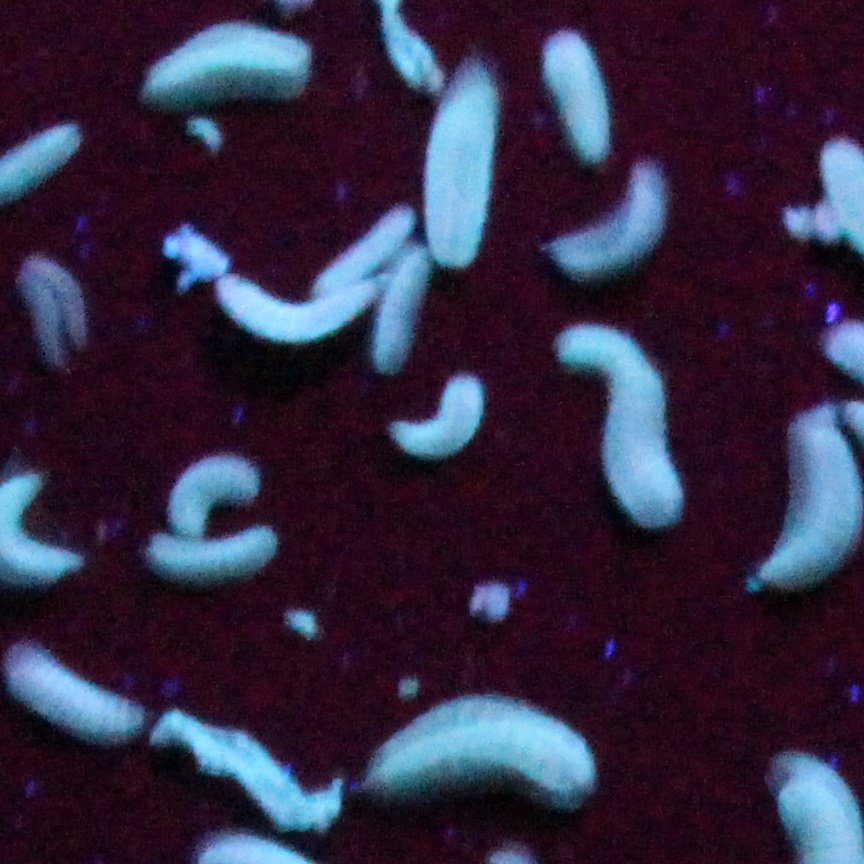larve: (560, 328, 691, 530), (358, 697, 599, 799), (741, 413, 841, 594), (6, 638, 149, 742), (424, 63, 495, 272), (547, 163, 668, 278), (139, 24, 312, 94), (218, 278, 381, 338), (306, 207, 414, 297), (543, 32, 610, 169), (387, 374, 485, 457), (166, 455, 260, 538), (366, 247, 429, 369), (149, 534, 276, 578)
